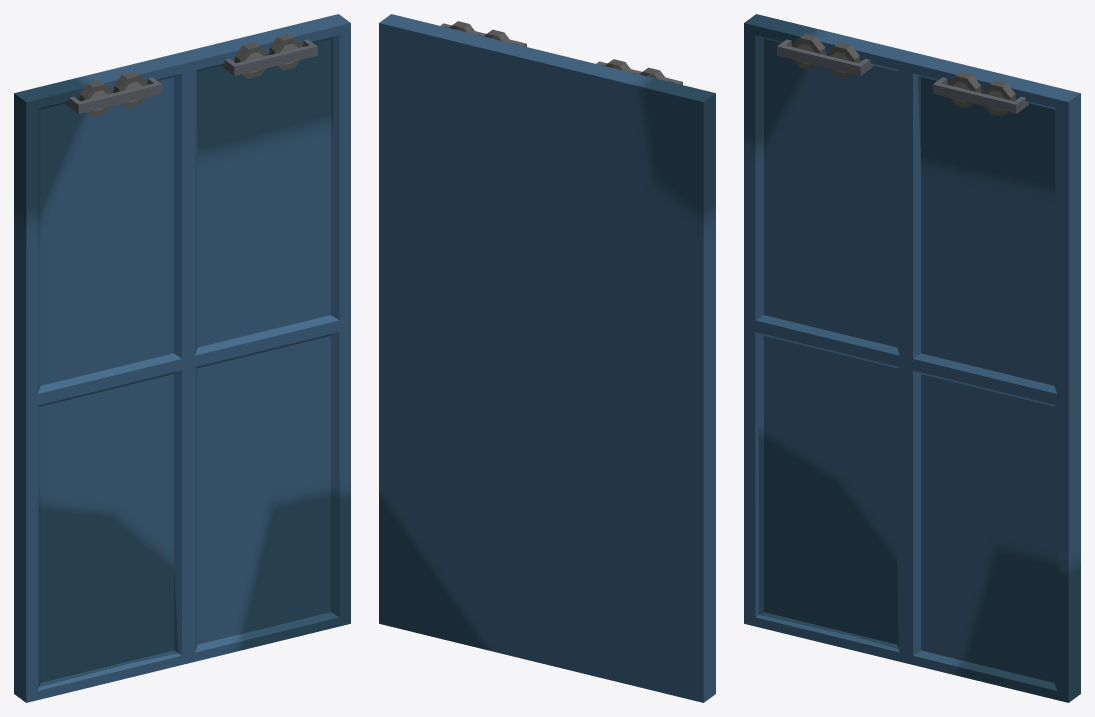
File: SM_Bld_Warehouse_Concrete_Door_01.obj
The picture shows the model from 3 angles, left to right: view 1: azimuth 30°, elevation 25°; view 2: azimuth 150°, elevation 25°; view 3: azimuth 330°, elevation 25°; orthographic projection.
Parts seen in each view (by area): view 1: SM_Bld_Warehouse_Concrete_Door_01_0; view 2: SM_Bld_Warehouse_Concrete_Door_01_0; view 3: SM_Bld_Warehouse_Concrete_Door_01_0.
Boxes of the visible parts, <box> form: SM_Bld_Warehouse_Concrete_Door_01_0: <box>14,14,350,702</box>; SM_Bld_Warehouse_Concrete_Door_01_0: <box>379,14,715,702</box>; SM_Bld_Warehouse_Concrete_Door_01_0: <box>744,14,1080,702</box>.
Bounding box in the file's own units: 2.95 × 5.25 × 0.3446.
Materials: 1 (1 with a texture image).
